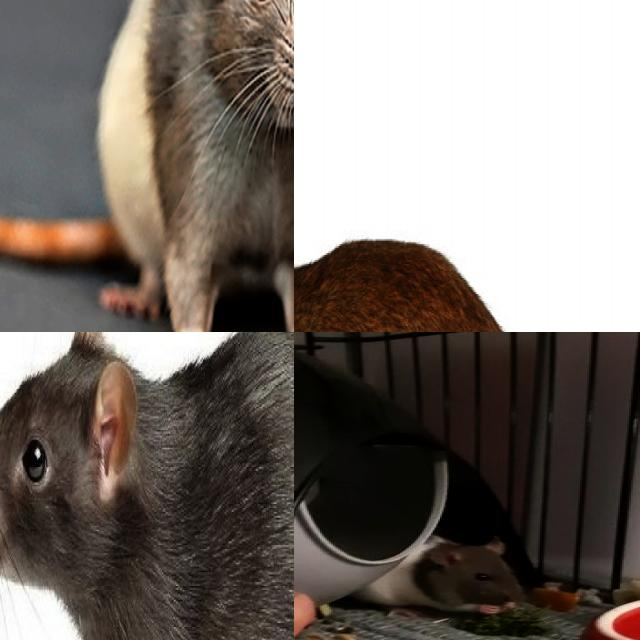rat: (0, 332, 294, 640), (69, 0, 294, 332), (294, 230, 640, 332), (340, 531, 524, 615)
